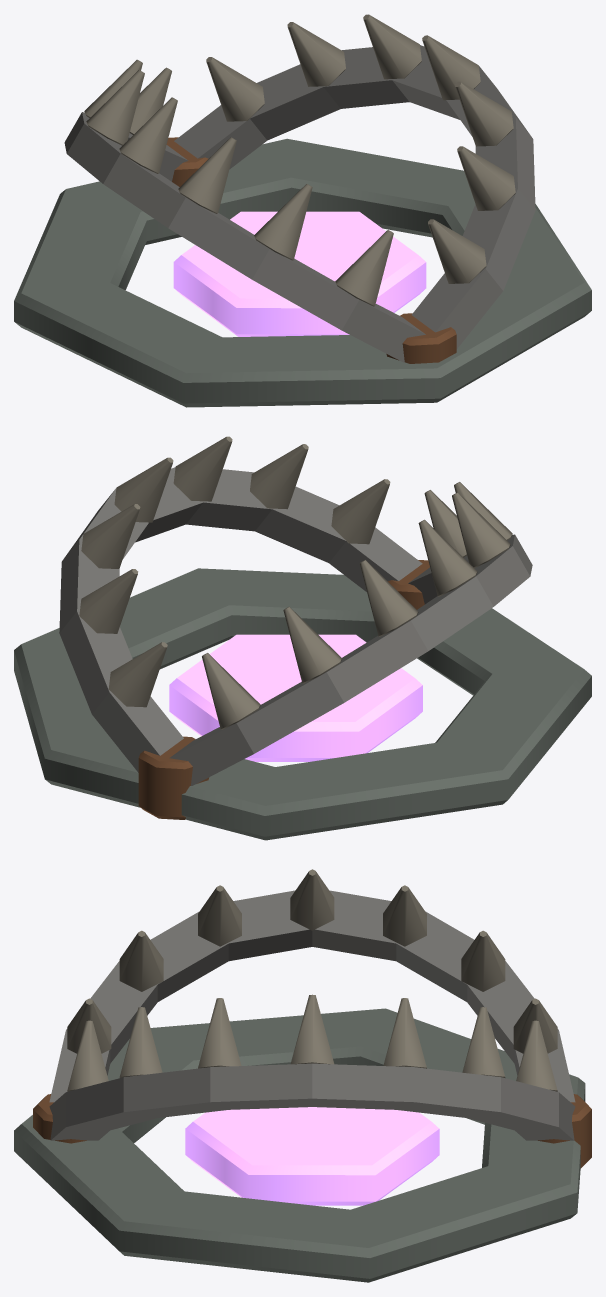
File: R4D_SnareTrap_LOD1.fbx
3 renders of one model, top to bottom at view 1: azimuth 30°, elevation 25°; view 2: azimuth 150°, elevation 25°; view 3: azimuth 270°, elevation 25°, orthographic.
Parts seen in each view (by area): view 1: R4D_SnareTrap_LOD1; view 2: R4D_SnareTrap_LOD1; view 3: R4D_SnareTrap_LOD1.
Boxes of the visible parts, x1,y1,x2,y2 form: R4D_SnareTrap_LOD1: [14, 14, 591, 407]; R4D_SnareTrap_LOD1: [14, 436, 591, 840]; R4D_SnareTrap_LOD1: [14, 869, 591, 1282].
Size of the model in its own units: 0.458 by 0.1997 by 0.4549.
